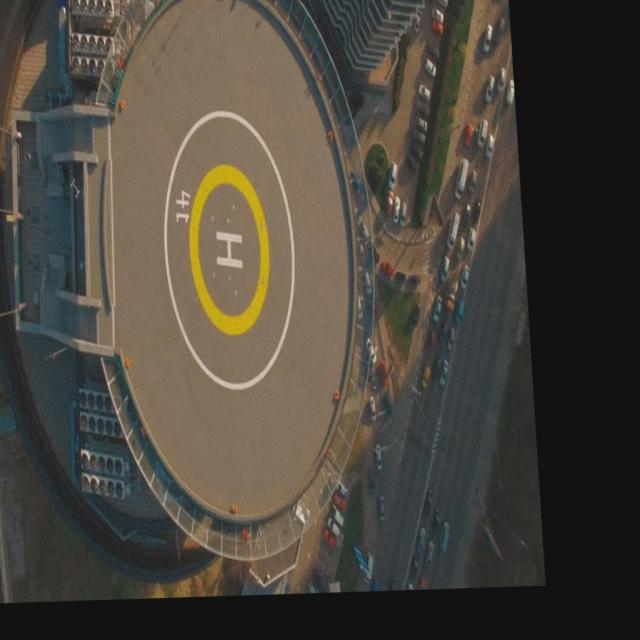helipad: (182, 158, 276, 338)
